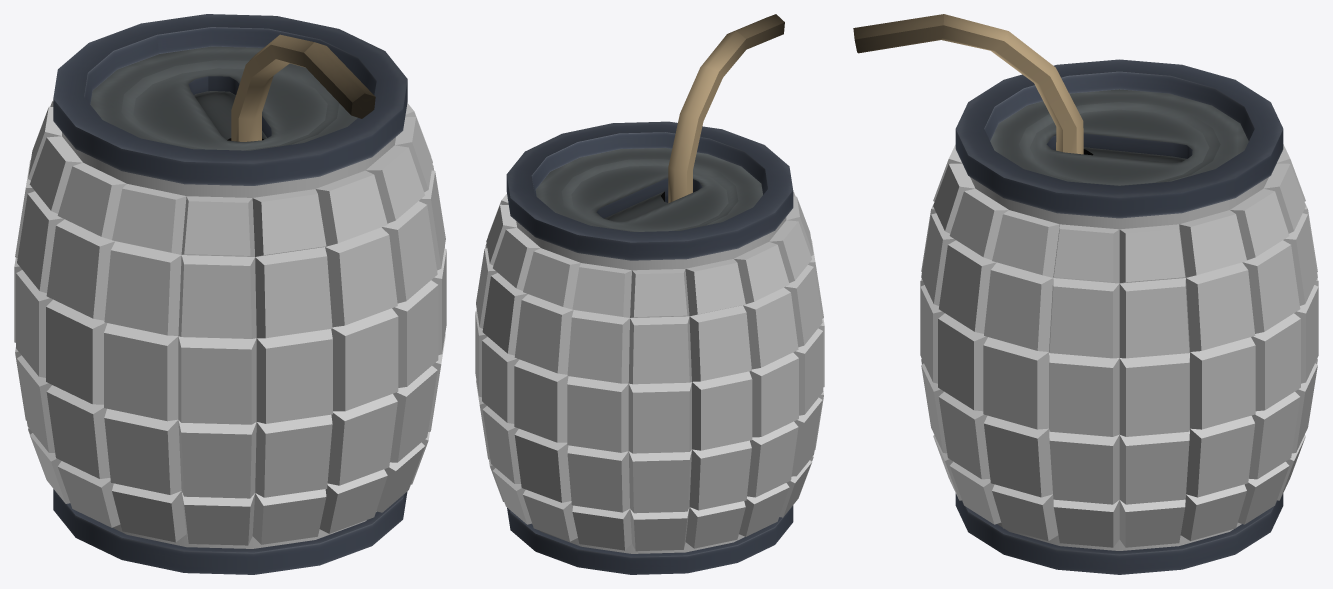
File: Shrapnel_Grenade_Preview.fbx
The picture shows the model from 3 angles, left to right: view 1: azimuth 30°, elevation 25°; view 2: azimuth 150°, elevation 25°; view 3: azimuth 270°, elevation 25°; orthographic projection. The views are drawn at different scales.
Parts seen in each view (by area): view 1: Granade; view 2: Granade; view 3: Granade.
Part boxes in pixels (x1,y1,x2,y2): Granade: (14, 14, 446, 574); Granade: (475, 14, 824, 574); Granade: (853, 14, 1318, 574).
Size of the model in its own units: 0.5049 by 0.6809 by 0.59.
